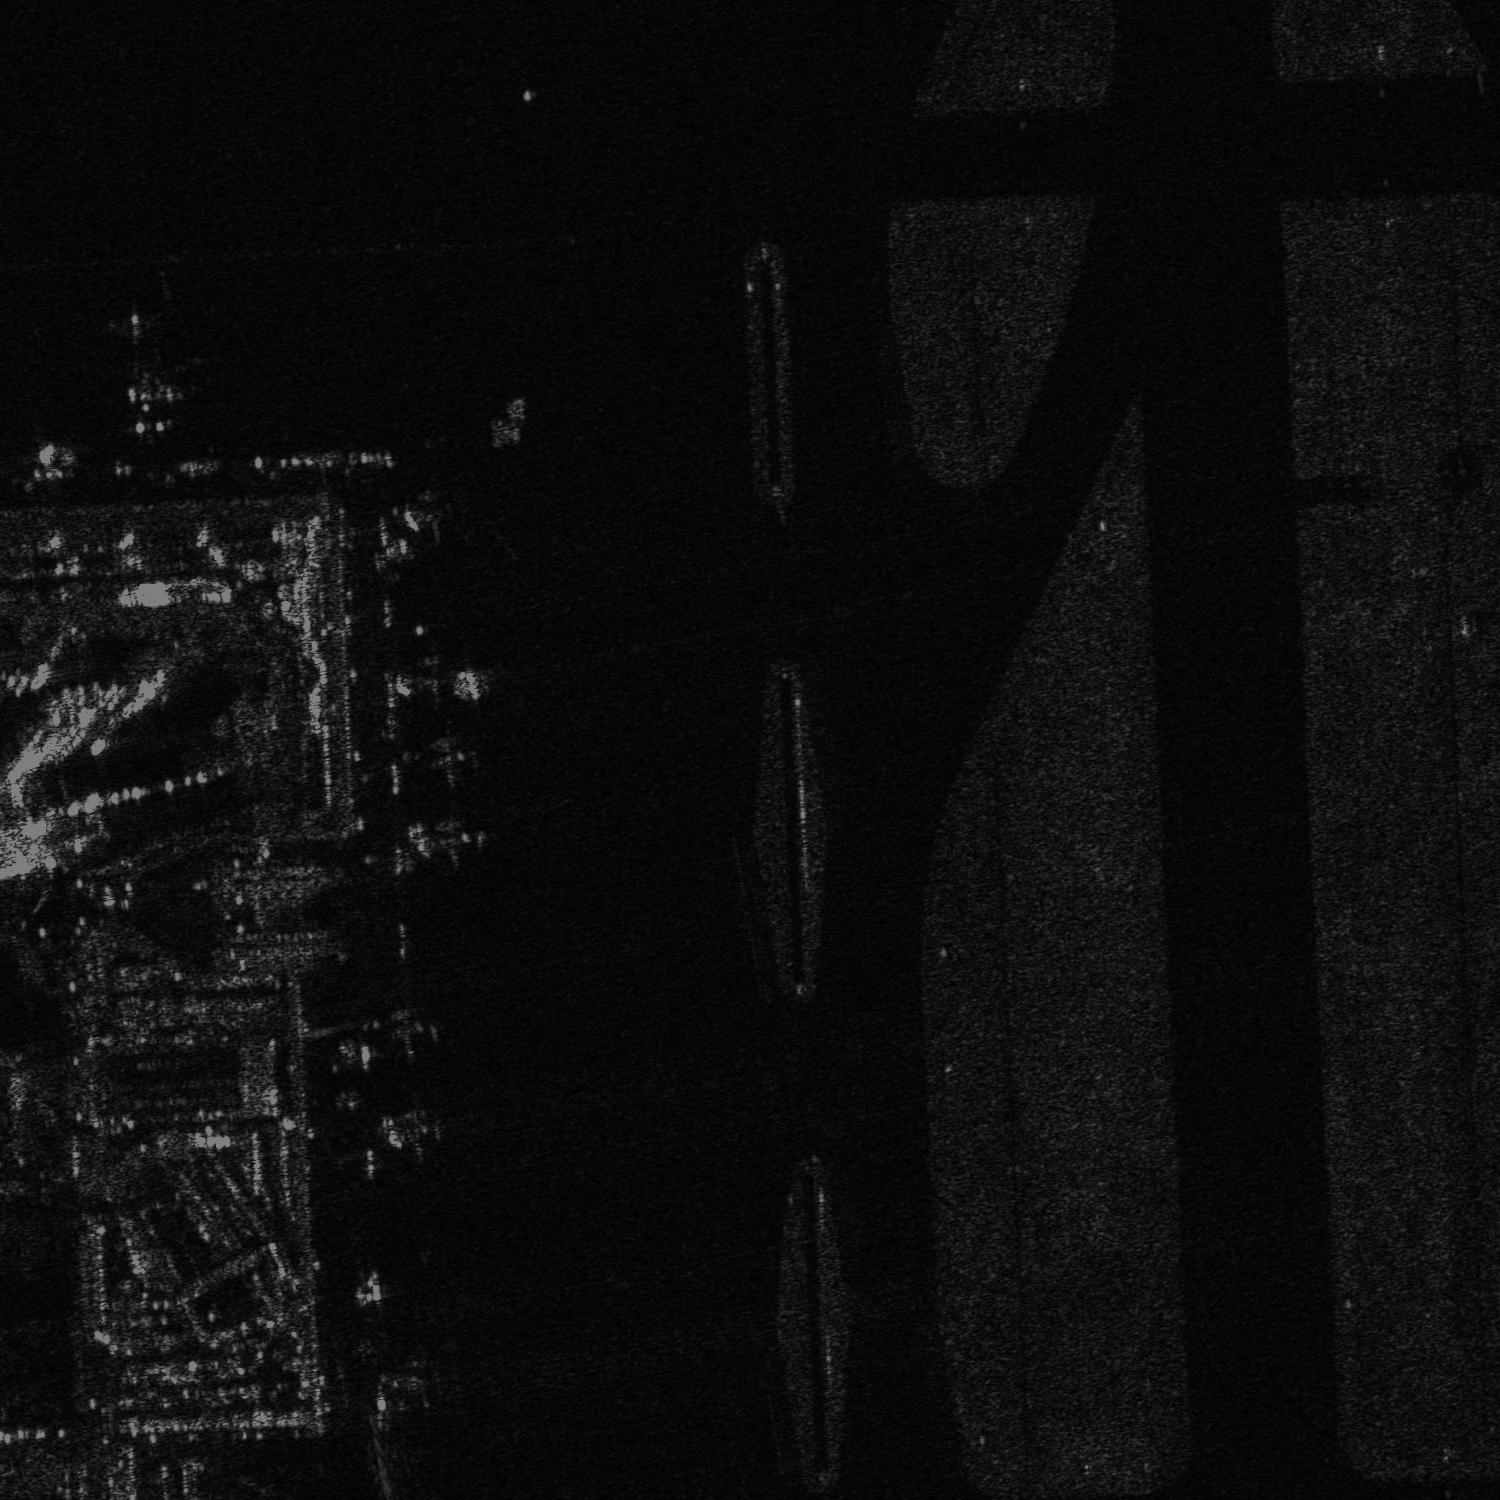A220: (397, 644, 495, 710), (409, 806, 499, 874), (371, 1102, 455, 1165), (376, 995, 451, 1065), (374, 1346, 448, 1413), (412, 732, 489, 793), (393, 503, 444, 560)
Boeing787: (76, 305, 223, 446)
